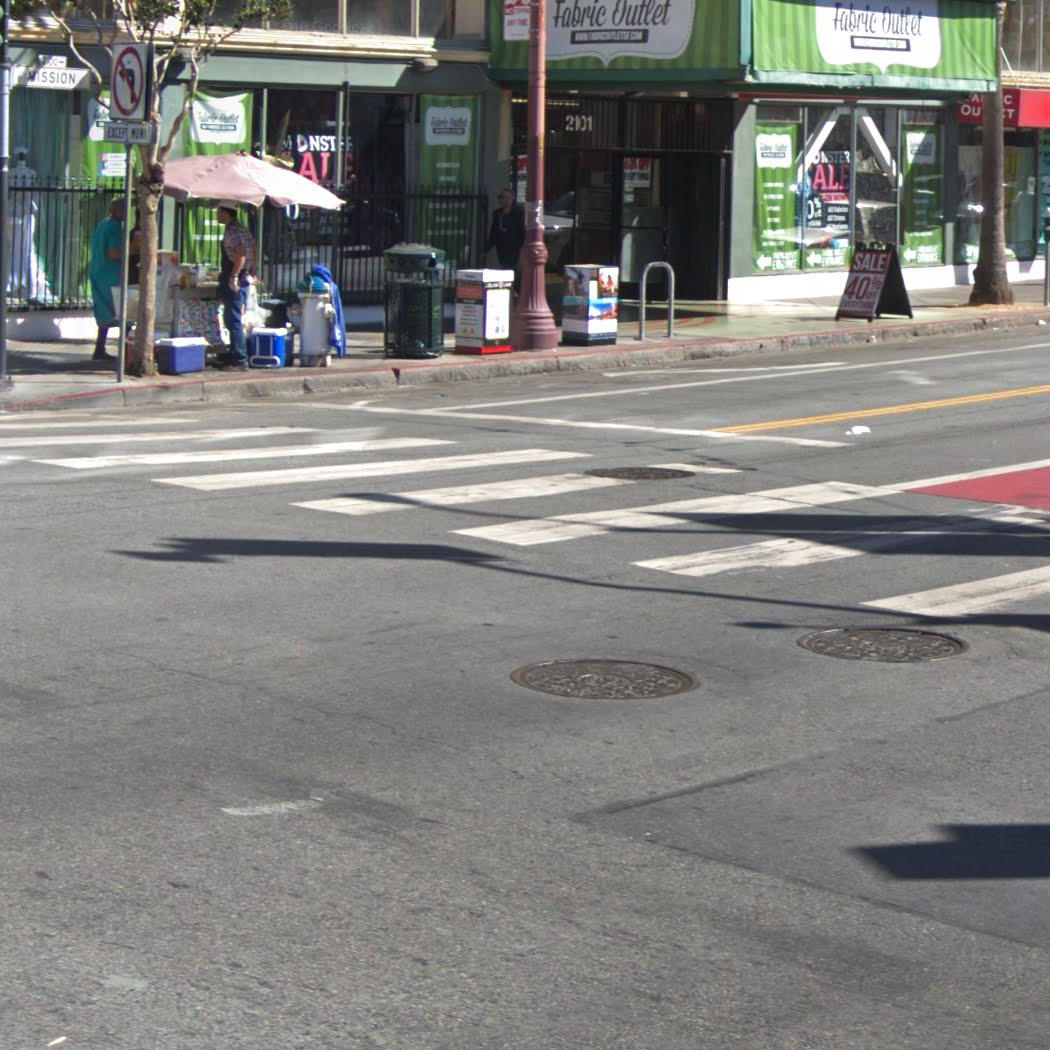No Parking Anytime: (501, 4, 533, 42)
